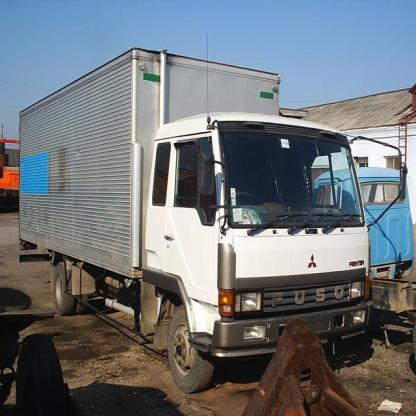truck: (21, 49, 407, 398)
